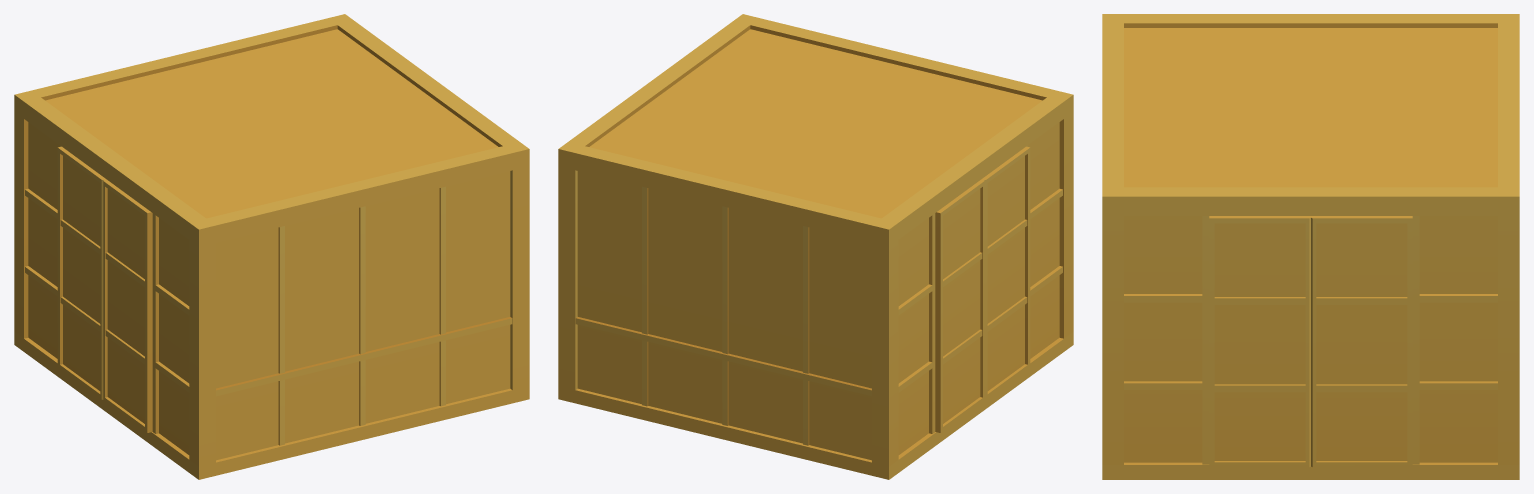
File: squidgame_props_cage.fbx
3 views of the same model, side by side, from view 1: azimuth 30°, elevation 25°; view 2: azimuth 150°, elevation 25°; view 3: azimuth 270°, elevation 25° (orthographic). The views are drawn at different scales.
Visible parts, largest first — view 1: squidgame_props_cage; view 2: squidgame_props_cage; view 3: squidgame_props_cage.
Part boxes in pixels (x1=…): squidgame_props_cage: x1=14, y1=14, x2=529, y2=479; squidgame_props_cage: x1=558, y1=14, x2=1073, y2=479; squidgame_props_cage: x1=1102, y1=14, x2=1519, y2=479.
Size of the model in its own units: 4.17 by 2.95 by 3.93.
